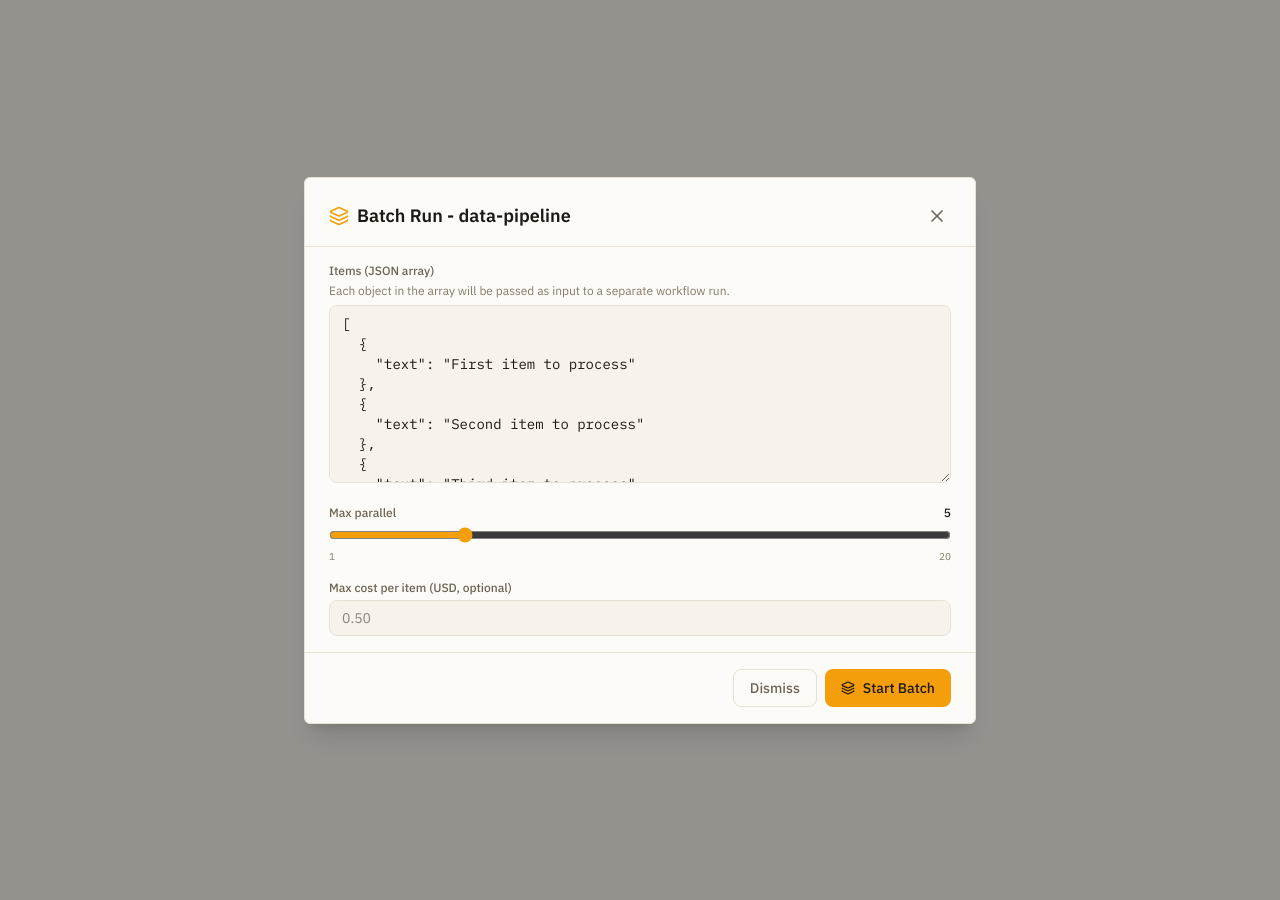
Test: BatchRunModal › results show passed/failed counts after completion
Click the button "Start Batch". click: coordinates (888, 688)
box: [825, 668, 951, 706]
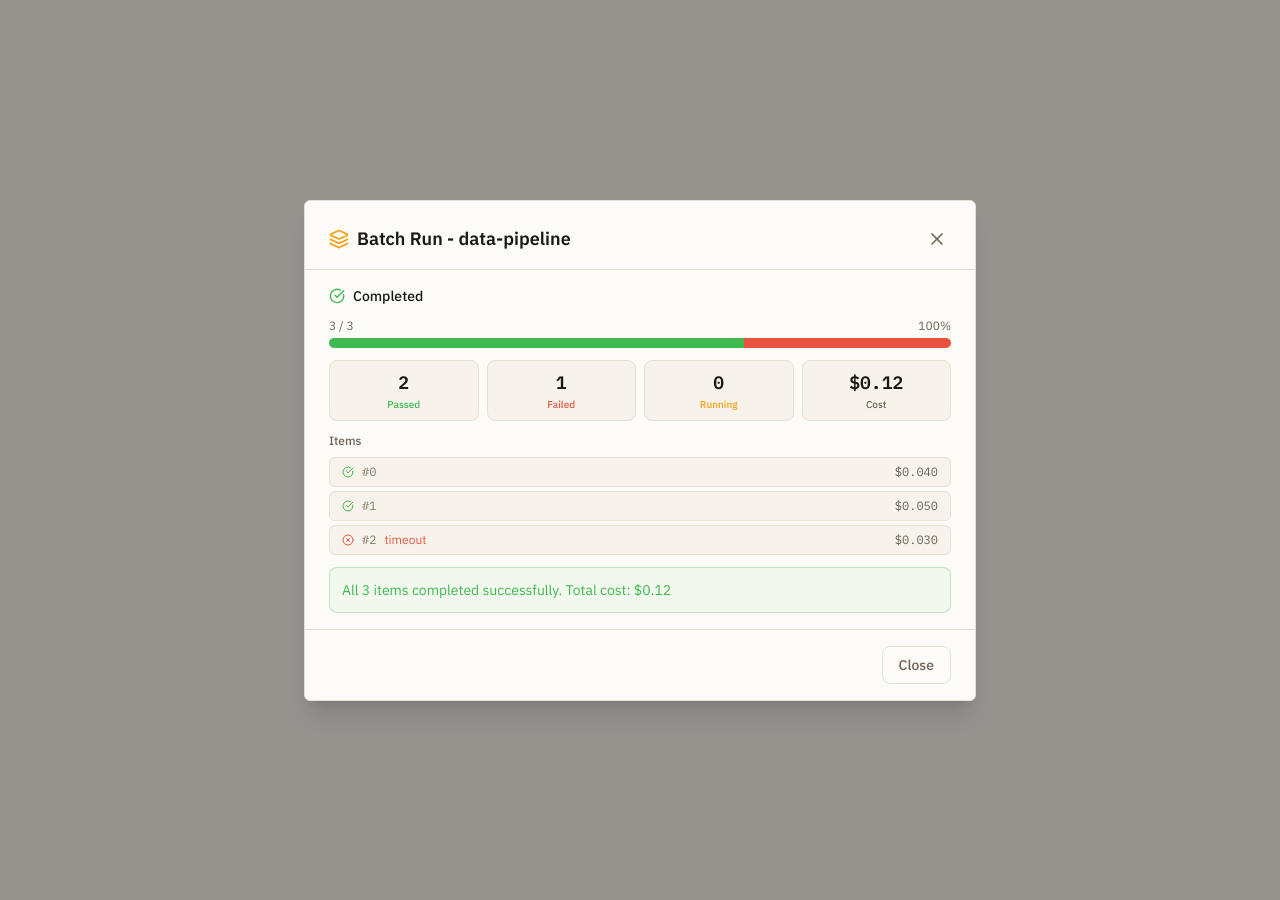
Expected: the text "2" is shown, [398, 370, 409, 394]
Expected: the text "1" is shown, [556, 370, 567, 394]
Expected: the text "$0.12" is shown, [849, 370, 903, 394]
